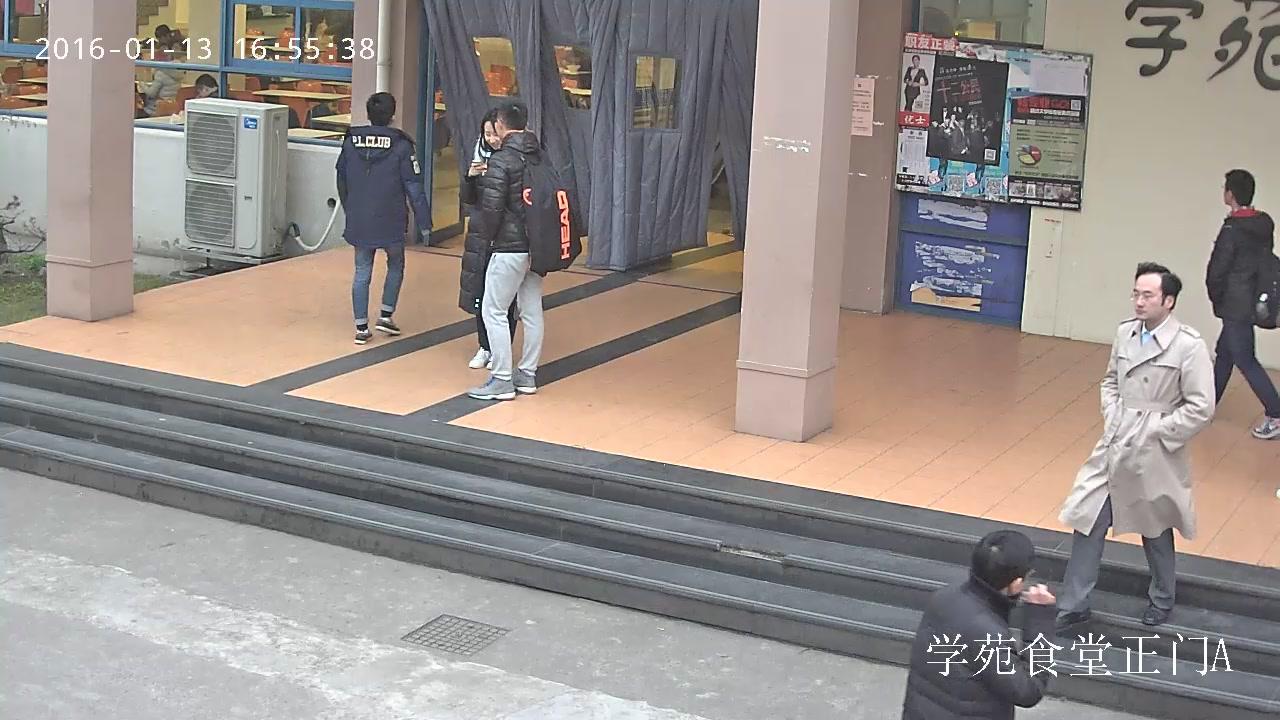person: (1048, 262, 1218, 632), (466, 96, 580, 401), (902, 529, 1057, 720), (333, 91, 431, 344), (1204, 168, 1280, 437), (458, 107, 518, 371), (134, 45, 184, 118), (902, 55, 928, 112)
